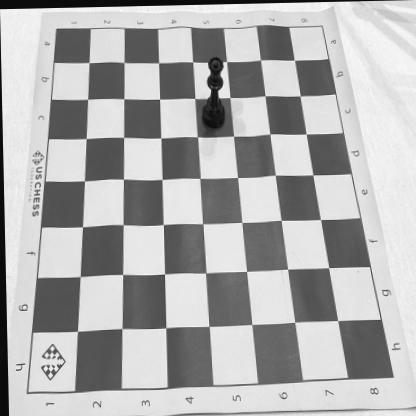black-queen: (200, 54, 226, 130)
